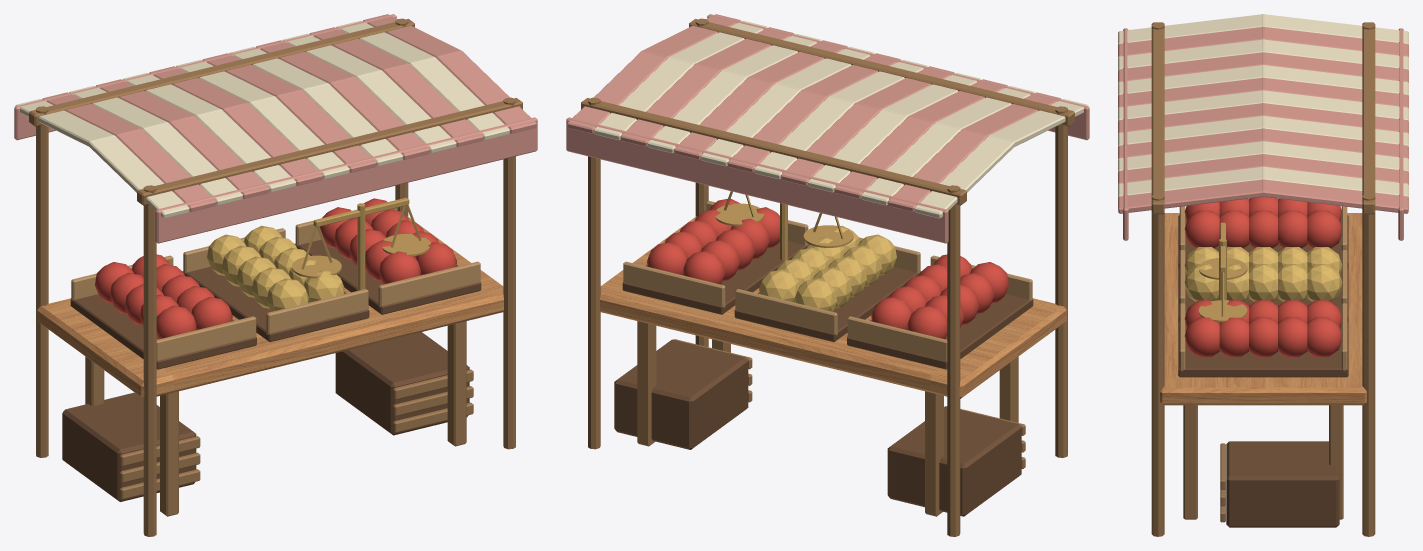
3 renders of one model, left to right at view 1: azimuth 30°, elevation 25°; view 2: azimuth 150°, elevation 25°; view 3: azimuth 270°, elevation 25°, orthographic. The views are drawn at different scales.
Parts seen in each view (by area): view 1: square_cloth_rose, square_wood, square_stripe_cream, square_wood_dark, square_oak, square_flower_red, square_wood_light, square_cloth_ochre, square_brass; view 2: square_cloth_rose, square_wood_dark, square_wood, square_stripe_cream, square_oak, square_flower_red, square_wood_light, square_cloth_ochre, square_brass; view 3: square_cloth_rose, square_stripe_cream, square_wood, square_wood_dark, square_flower_red, square_oak, square_cloth_ochre, square_wood_light, square_brass.
Part boxes in pixels (left/top/right/bottom): square_cloth_rose: left=14, top=14, right=537, bottom=243; square_wood: left=29, top=18, right=522, bottom=536; square_stripe_cream: left=15, top=20, right=509, bottom=218; square_wood_dark: left=62, top=239, right=481, bottom=501; square_oak: left=37, top=216, right=503, bottom=398; square_flower_red: left=95, top=198, right=456, bottom=339; square_wood_light: left=71, top=207, right=480, bottom=360; square_cloth_ochre: left=207, top=225, right=344, bottom=311; square_brass: left=292, top=197, right=430, bottom=290; square_cloth_rose: left=566, top=14, right=1089, bottom=243; square_wood_dark: left=614, top=241, right=1033, bottom=516; square_wood: left=581, top=18, right=1074, bottom=536; square_stripe_cream: left=594, top=20, right=1088, bottom=218; square_oak: left=600, top=216, right=1066, bottom=398; square_flower_red: left=647, top=198, right=1008, bottom=339; square_wood_light: left=623, top=201, right=1032, bottom=360; square_cloth_ochre: left=759, top=225, right=896, bottom=311; square_brass: left=715, top=191, right=853, bottom=260; square_cloth_rose: left=1118, top=26, right=1408, bottom=240; square_stripe_cream: left=1118, top=14, right=1408, bottom=197; square_wood: left=1151, top=22, right=1375, bottom=536; square_wood_dark: left=1178, top=215, right=1348, bottom=527; square_flower_red: left=1184, top=197, right=1342, bottom=357; square_oak: left=1160, top=213, right=1366, bottom=405; square_cloth_ochre: left=1184, top=247, right=1342, bottom=301; square_wood_light: left=1179, top=206, right=1347, bottom=371; square_brass: left=1198, top=222, right=1247, bottom=322.
Bounding box in the file's own units: 2.65 × 2.36 × 1.8.
Materials: 9 (1 with a texture image).
